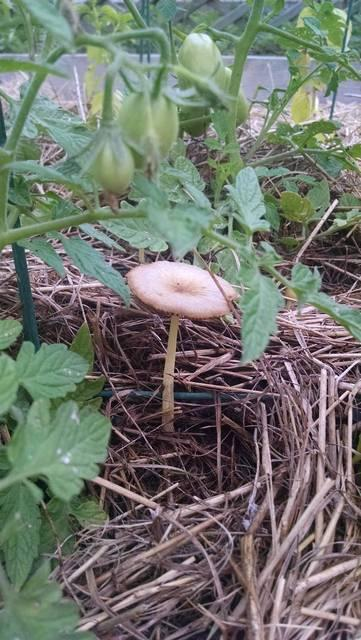edible_mushroom: (125, 259, 239, 432)
